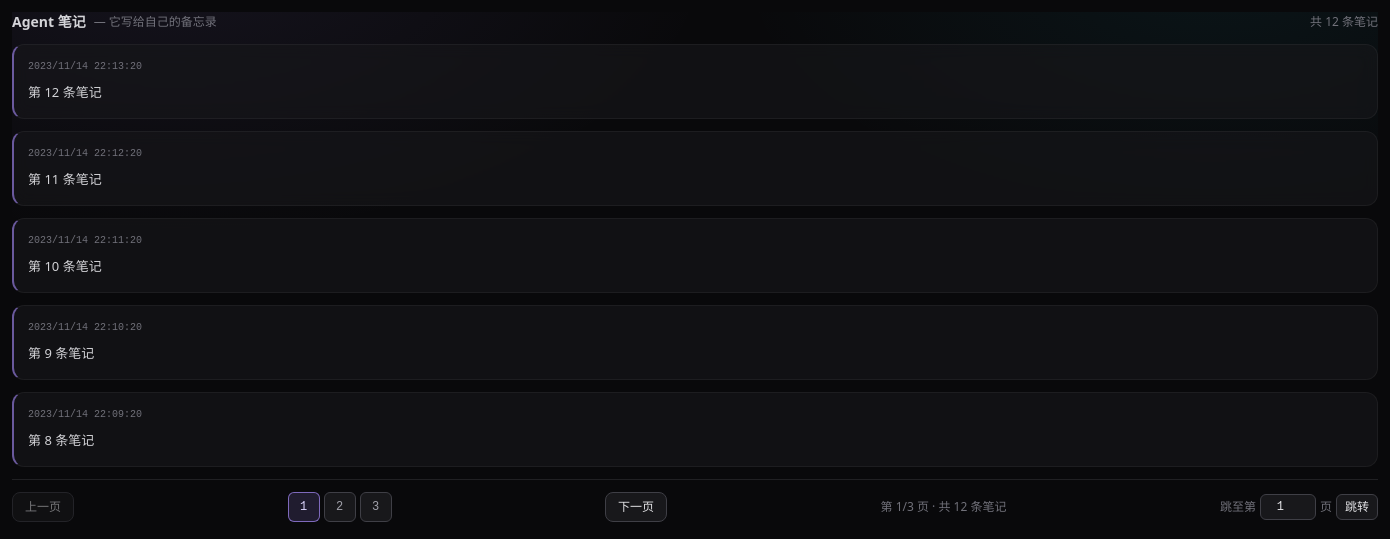
it: NotesPanel(Agent 笔记) › 每页显示 5 条、显示总数，并支持下一页与指定页跳转
Expected: the text "第 12 条笔记" is shown, x1=28 y1=83 x2=102 y2=101
Expected: the text "第 8 条笔记" is shown, x1=28 y1=431 x2=94 y2=449
Click the button "下一页" at (636, 507), box x1=605 y1=492 x2=667 y2=522
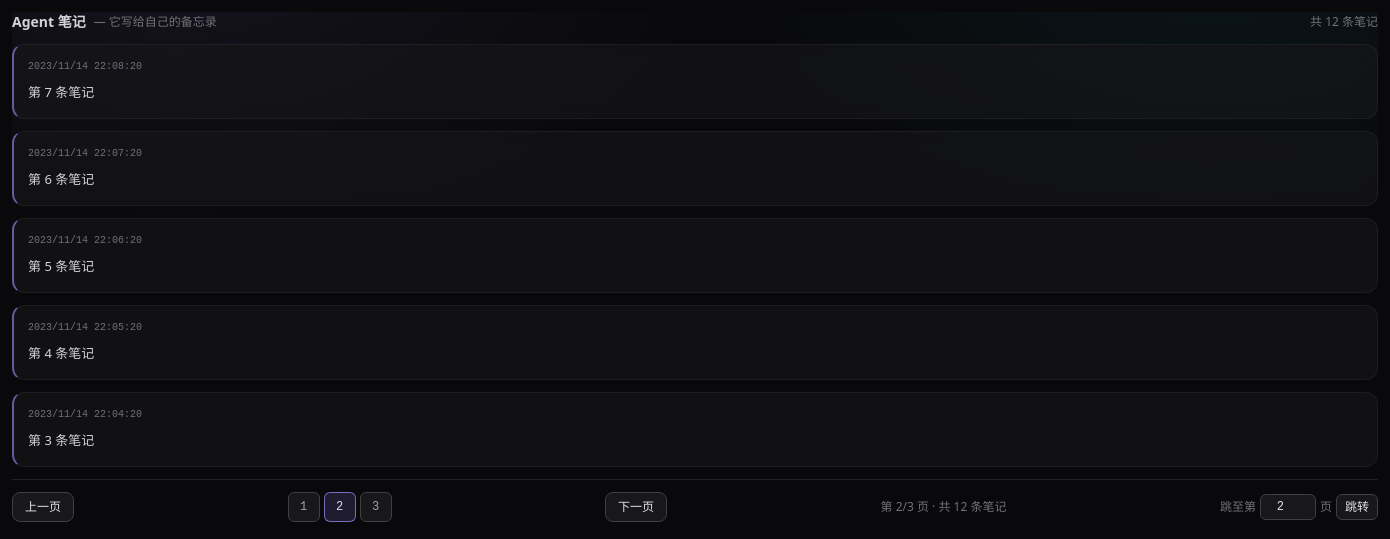
Expected: the text "第 7 条笔记" is shown, x1=28 y1=83 x2=94 y2=101
Replace the text in the number field named "跳转到第几页笔记" with "3" at (1288, 507), box x1=1260 y1=494 x2=1316 y2=520
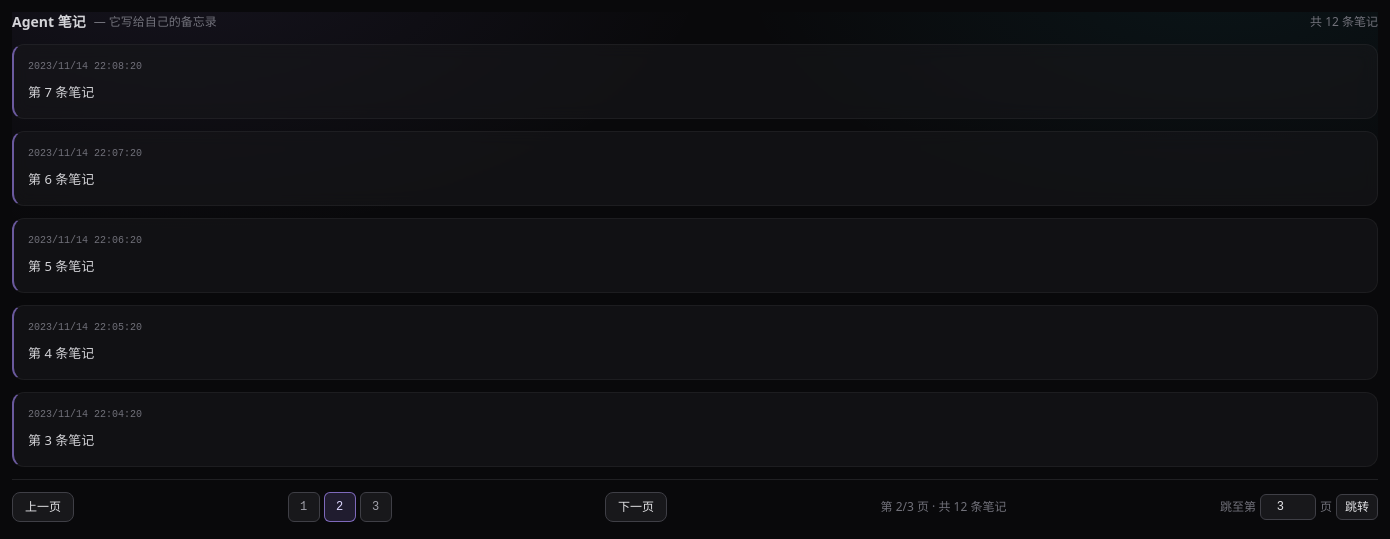
Click the button "跳转" at (1357, 507), box x1=1336 y1=494 x2=1378 y2=520
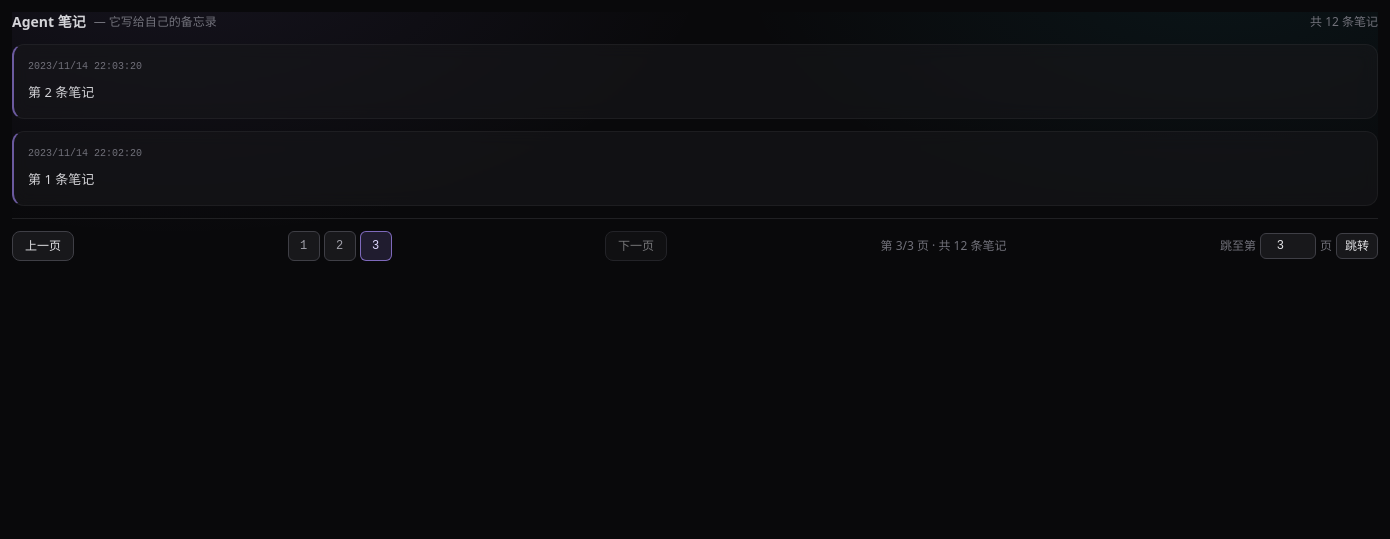
Expected: the text "第 2 条笔记" is shown, x1=28 y1=83 x2=94 y2=101
Expected: the text "第 3/3 页 · 共 12 条笔记" is shown, x1=880 y1=238 x2=1006 y2=254
